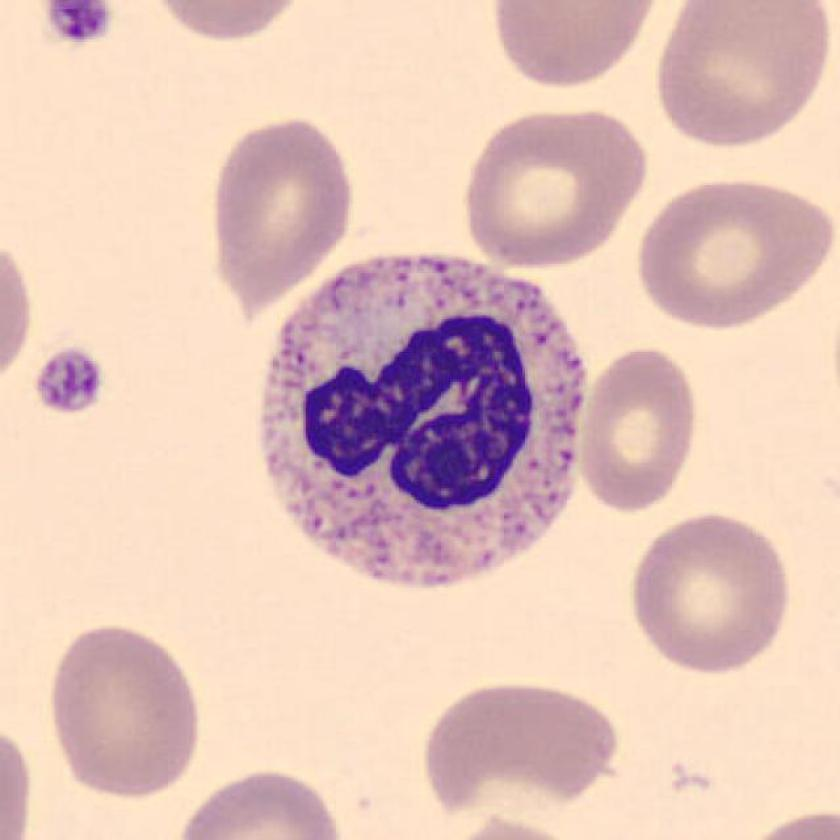neutrophil: (261, 249, 597, 588)
